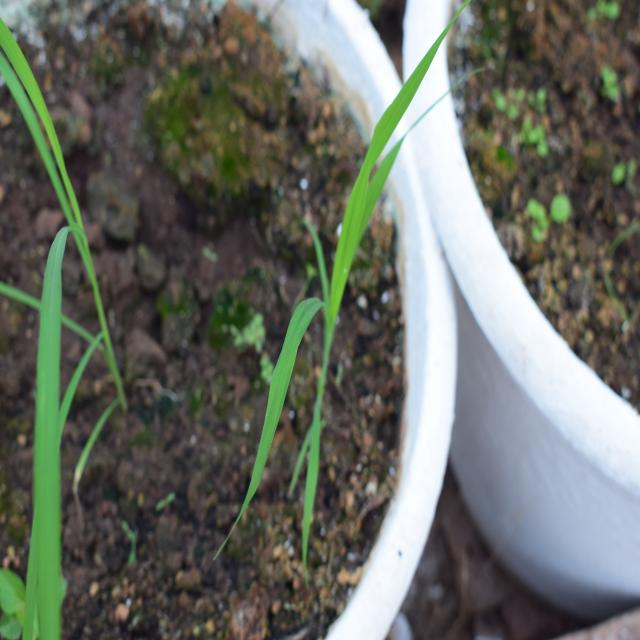barnyard_grass: (220, 6, 468, 533)
